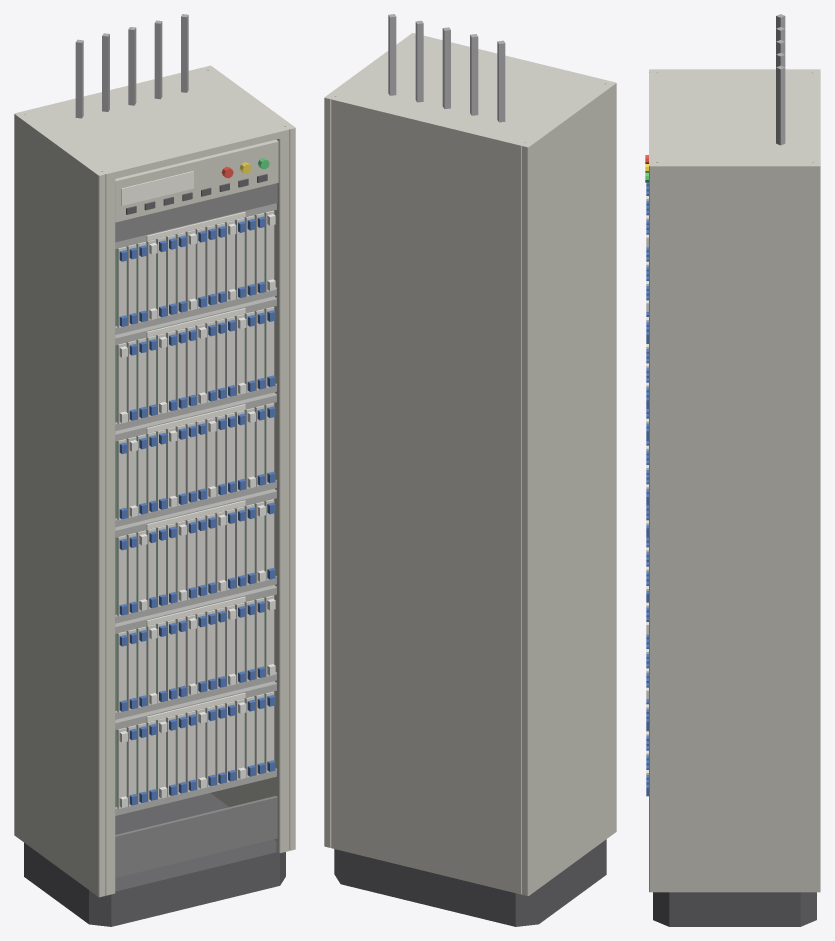
The model's file is bastidor-tropico.fbx.
The picture shows the model from 3 angles, left to right: view 1: azimuth 30°, elevation 25°; view 2: azimuth 150°, elevation 25°; view 3: azimuth 270°, elevation 25°; orthographic projection. The views are drawn at different scales.
Visible parts, largest first — view 1: Bastidor Trópico R; view 2: Bastidor Trópico R; view 3: Bastidor Trópico R.
Part boxes in pixels (box(x1,y1,x2,y2)): Bastidor Trópico R: box(14, 14, 295, 926); Bastidor Trópico R: box(324, 14, 616, 926); Bastidor Trópico R: box(645, 14, 820, 926).
Size of the model in its own units: 0.6 by 2.42 by 0.46.
Materials: 1 (1 with a texture image).
